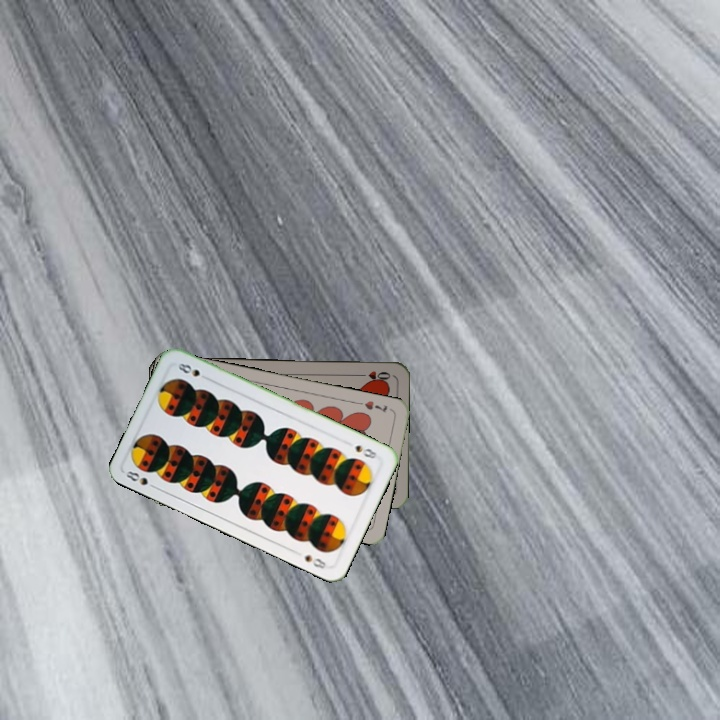H7: (354, 397, 390, 415)
HO: (353, 367, 393, 383)
S8: (120, 467, 160, 492), (351, 441, 379, 461)
